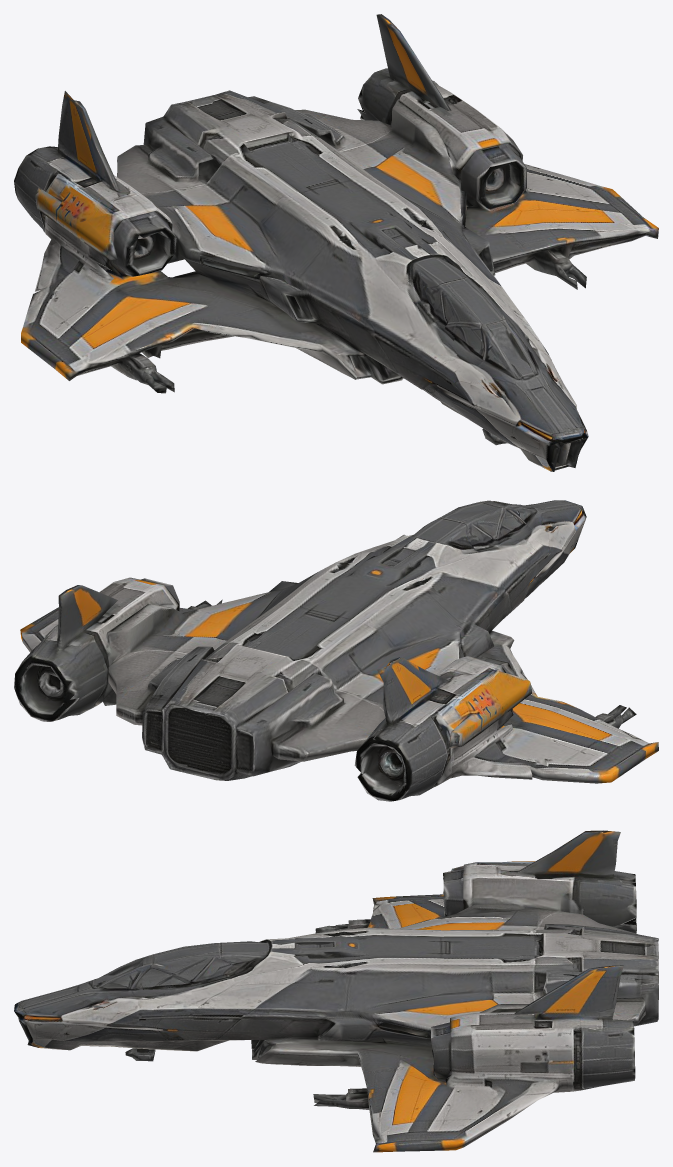
Rendered from fighter-high.glb.
The picture shows the model from 3 angles, top to bottom: view 1: azimuth 30°, elevation 25°; view 2: azimuth 150°, elevation 25°; view 3: azimuth 270°, elevation 25°; orthographic projection. The views are drawn at different scales.
Visible parts, largest first — view 1: tripo_node_408645ba-9db0-4d61-9179-b72314c5e6aa; view 2: tripo_node_408645ba-9db0-4d61-9179-b72314c5e6aa; view 3: tripo_node_408645ba-9db0-4d61-9179-b72314c5e6aa.
Part boxes in pixels (left/top/right/bottom): tripo_node_408645ba-9db0-4d61-9179-b72314c5e6aa: left=14, top=14, right=658, bottom=471; tripo_node_408645ba-9db0-4d61-9179-b72314c5e6aa: left=14, top=500, right=658, bottom=801; tripo_node_408645ba-9db0-4d61-9179-b72314c5e6aa: left=14, top=830, right=658, bottom=1152.
Bounding box in the file's own units: 1.64 × 0.4918 × 1.8.
1 material, 1 textured.
